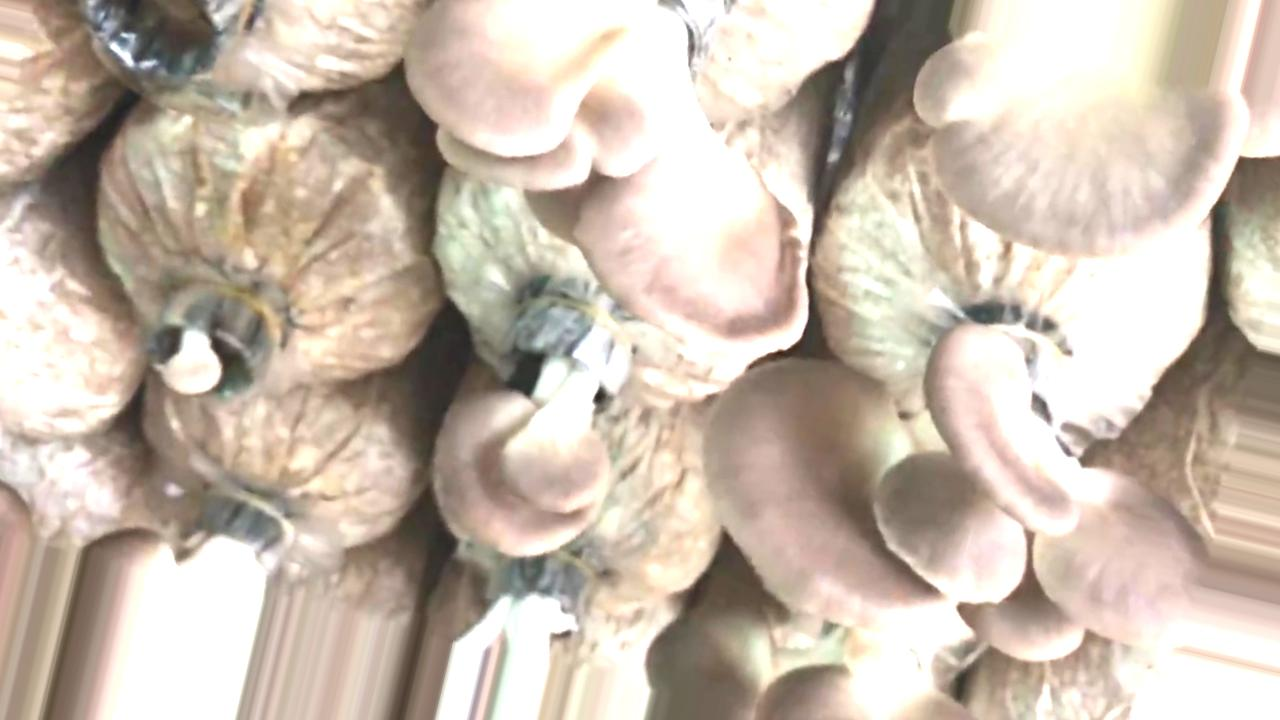nam: (705, 324, 1275, 663), (408, 1, 810, 356), (921, 1, 1277, 255), (45, 492, 280, 720), (430, 316, 632, 558), (645, 616, 960, 720), (148, 290, 282, 393)
